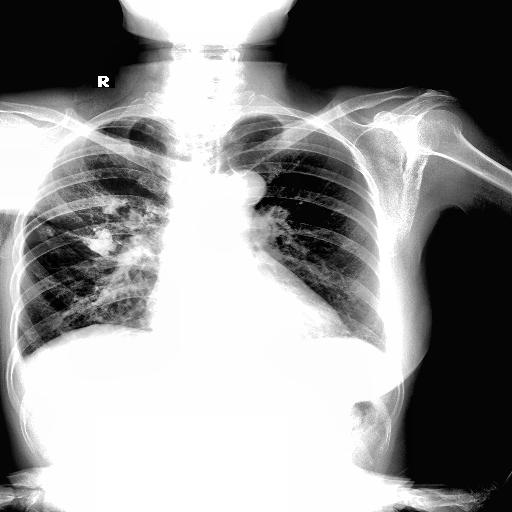0- Aortic enlargement: (211, 166, 267, 220), (218, 168, 266, 216), (212, 169, 268, 207)
10- Pleural effusion: (6, 344, 36, 374)
11- Pleural thickening: (6, 344, 36, 374), (98, 114, 126, 126)
13- Pulmonary fibrosis: (36, 221, 115, 257), (38, 222, 96, 244), (51, 228, 102, 244), (100, 196, 126, 214)
2- Calcification: (36, 221, 115, 257), (80, 227, 114, 256), (100, 196, 126, 214)
3- Cardiomegaly: (146, 289, 354, 345), (144, 298, 352, 354), (145, 286, 347, 342)
6- Infiltration: (102, 198, 162, 224)
7- Lung Opacity: (34, 130, 168, 260), (36, 126, 166, 252), (102, 198, 162, 224), (82, 226, 118, 258), (28, 213, 56, 237)
